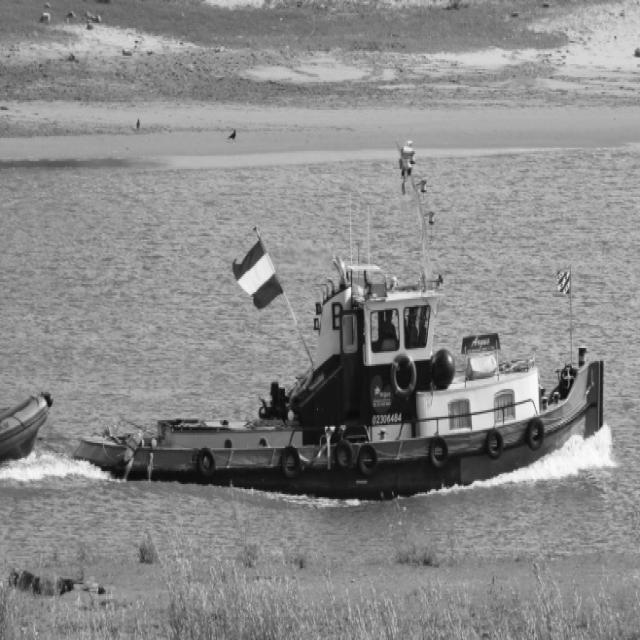tugboat: (69, 135, 613, 523)
